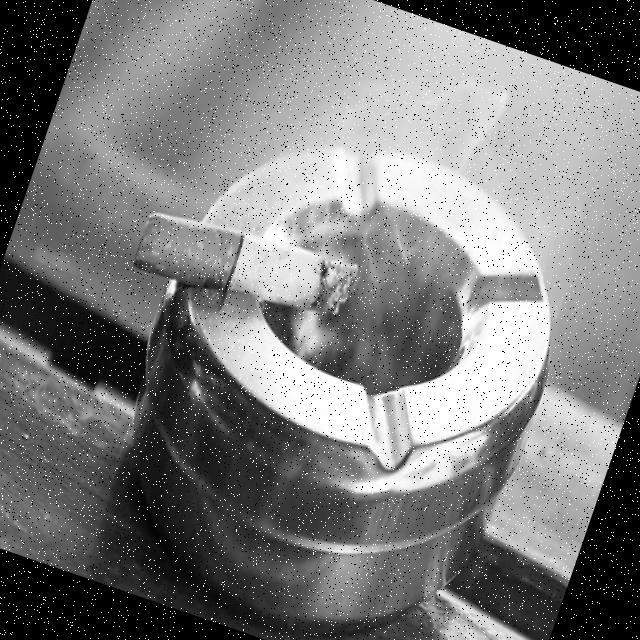cigarette: (148, 195, 364, 346)
